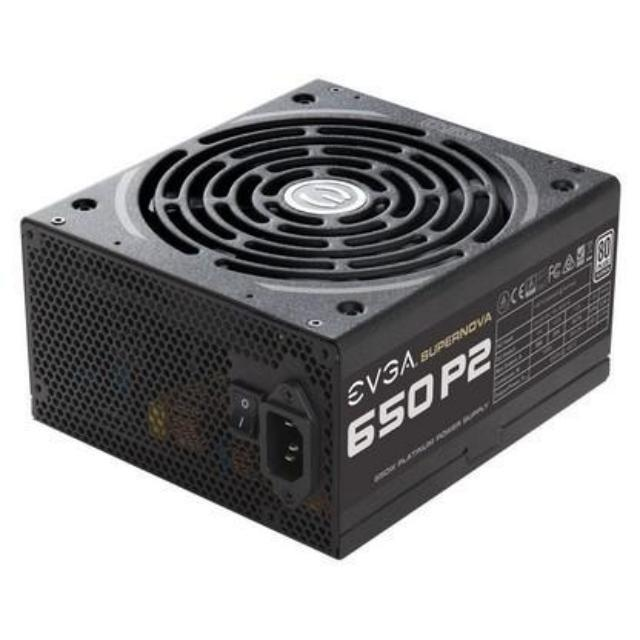PSU: (0, 71, 640, 554)
